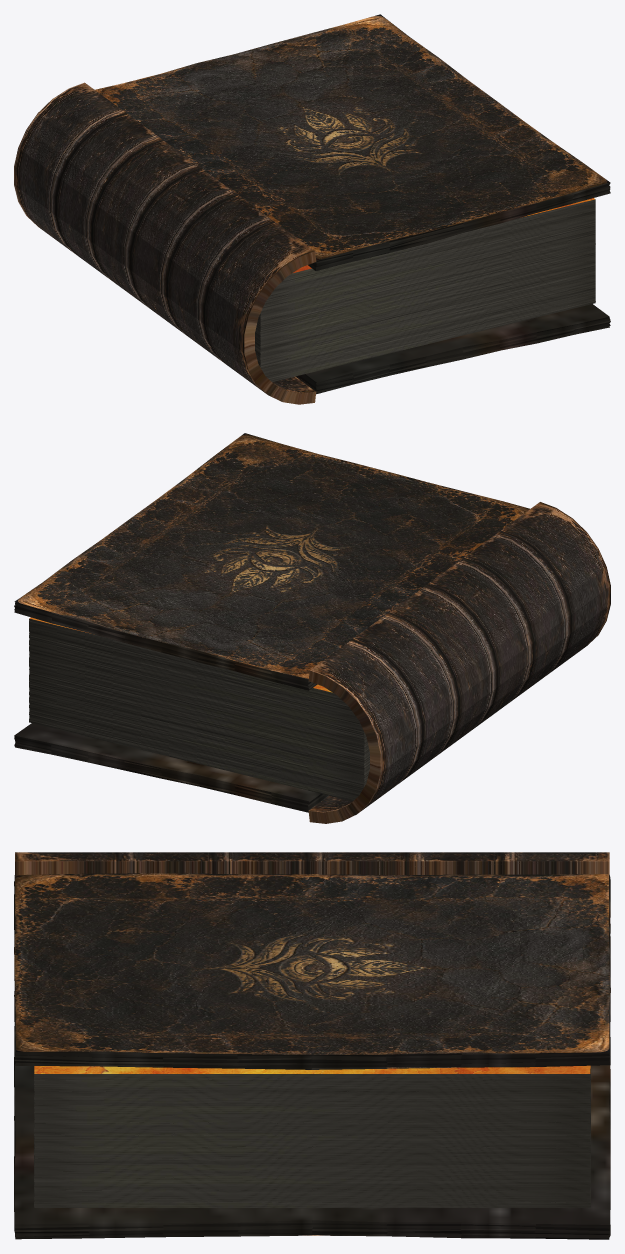
Rendered from book.glb.
The picture shows the model from 3 angles, top to bottom: view 1: azimuth 30°, elevation 25°; view 2: azimuth 150°, elevation 25°; view 3: azimuth 270°, elevation 25°; orthographic projection. The views are drawn at different scales.
Visible parts, largest first — view 1: Cover_Front, Spine, Pages, Cover_Back; view 2: Cover_Front, Spine, Pages, Cover_Back; view 3: Cover_Front, Pages, Cover_Back, Spine.
Part boxes in pixels (left/top/right/bottom): Cover_Front: left=95, top=14, right=610, bottom=270; Spine: left=14, top=82, right=316, bottom=404; Pages: left=255, top=198, right=595, bottom=381; Cover_Back: left=295, top=304, right=610, bottom=394; Cover_Front: left=14, top=433, right=529, bottom=690; Spine: left=308, top=502, right=610, bottom=823; Pages: left=29, top=617, right=369, bottom=801; Cover_Back: left=14, top=723, right=328, bottom=812; Cover_Front: left=14, top=873, right=610, bottom=1069; Pages: left=34, top=1065, right=590, bottom=1207; Cover_Back: left=14, top=1037, right=610, bottom=1239; Spine: left=15, top=852, right=609, bottom=874.
Bounding box in the file's own units: 0.3106 × 0.1229 × 0.3393.
Materials: 4 (4 with a texture image).
